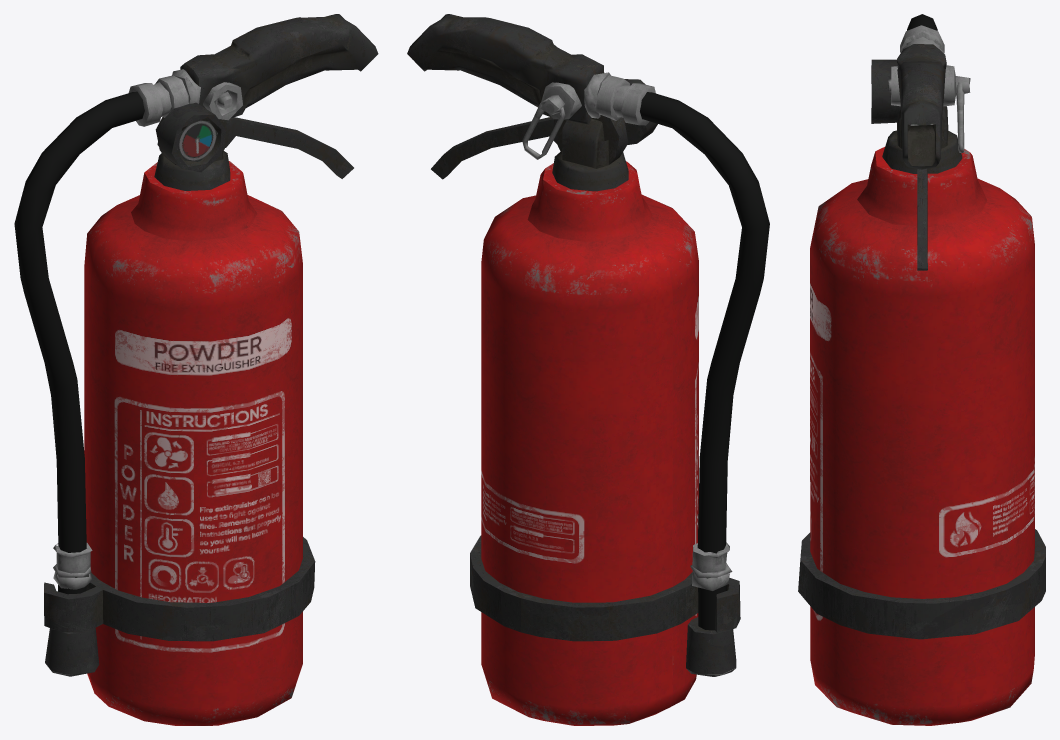
File: SM_FireExtinguisher.glb
3 renders of one model, left to right at view 1: azimuth 30°, elevation 25°; view 2: azimuth 150°, elevation 25°; view 3: azimuth 270°, elevation 25°, orthographic. The views are drawn at different scales.
Visible parts, largest first — view 1: SM_FireExtinguisher; view 2: SM_FireExtinguisher; view 3: SM_FireExtinguisher.
Part boxes in pixels (left/top/right/bottom): SM_FireExtinguisher: left=14, top=14, right=378, bottom=725; SM_FireExtinguisher: left=407, top=14, right=769, bottom=725; SM_FireExtinguisher: left=798, top=14, right=1045, bottom=725.
Bounding box in the file's own units: 0.3931 × 0.6885 × 0.2328.
Materials: 1 (1 with a texture image).
